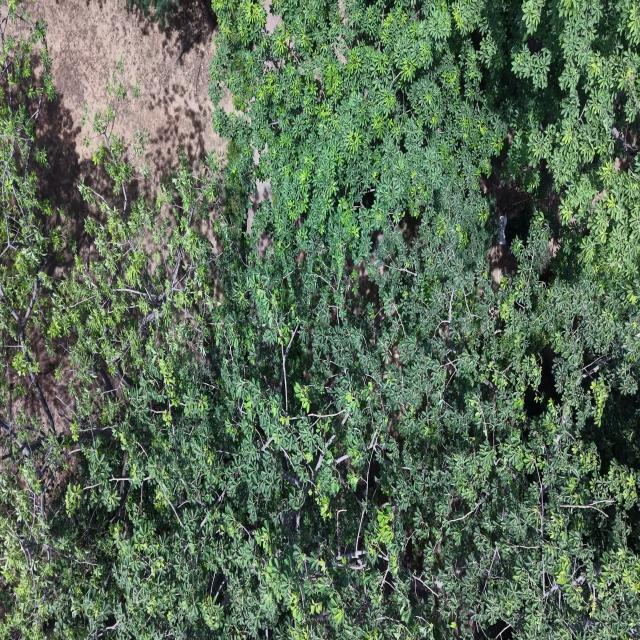DRY_AREA: (31, 0, 225, 261), (31, 0, 224, 260), (32, 0, 224, 261), (34, 0, 225, 219), (34, 0, 224, 219), (34, 0, 223, 209)
VEGETATION_TREE: (0, 0, 639, 639), (127, 0, 214, 27), (128, 0, 179, 25)
